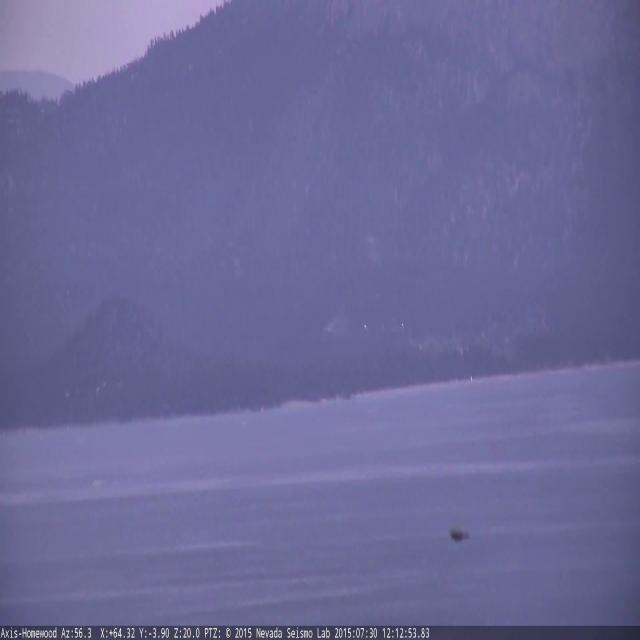smoke: (321, 309, 349, 335)
